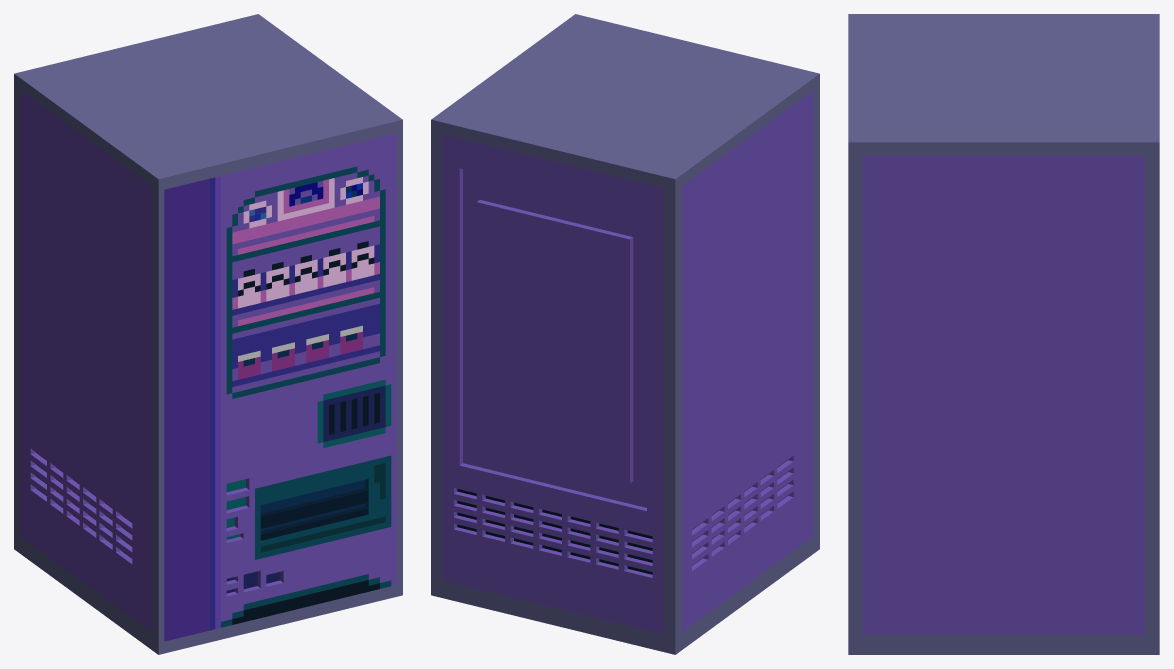
The model's file is machine.gltf.
3 renders of one model, left to right at view 1: azimuth 30°, elevation 25°; view 2: azimuth 150°, elevation 25°; view 3: azimuth 270°, elevation 25°, orthographic. The views are drawn at different scales.
Visible parts, largest first — view 1: 3dvending machine; view 2: 3dvending machine; view 3: 3dvending machine.
Part boxes in pixels (x1,y1,x2,y2): 3dvending machine: [14, 14, 402, 654]; 3dvending machine: [431, 14, 819, 654]; 3dvending machine: [848, 14, 1159, 654].
Size of the model in its own units: 4.3 by 8 by 4.4.
1 material, 1 textured.
